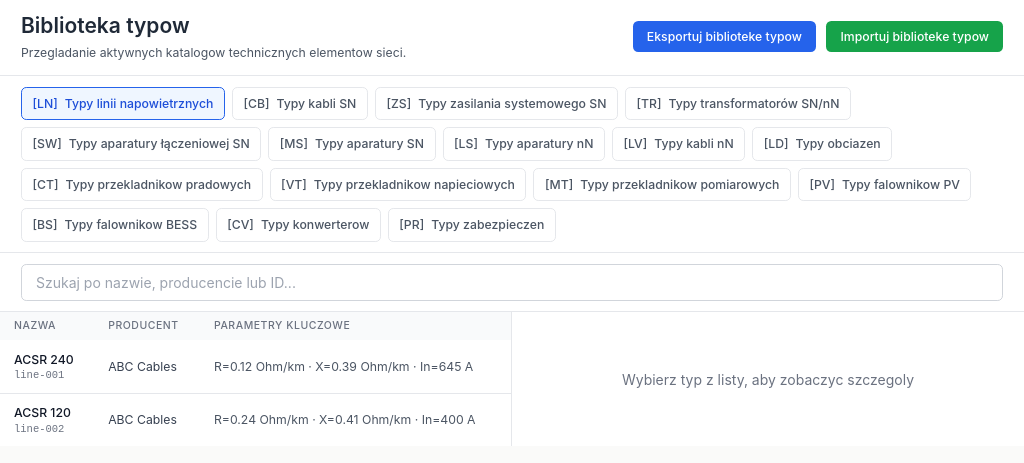
it: TypeLibraryBrowser › filters visible types by search query
Expected: the text "ACSR 240" is shown, left=14, top=350, right=80, bottom=368
Expected: the text "ACSR 120" is shown, left=14, top=404, right=80, bottom=422
Type "240" into the field with placeholder "Szukaj po nazwie, producencie lub ID...".
click(512, 282); type("240")  # box left=21, top=264, right=1003, bottom=300
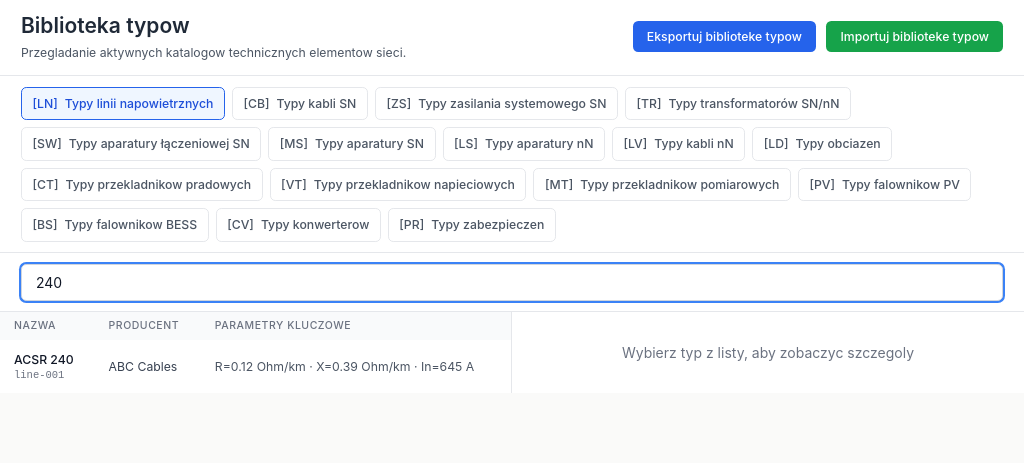
Expected: the text "ACSR 240" is shown, left=14, top=350, right=81, bottom=368
Expected: the text "ACSR 120" is gone
